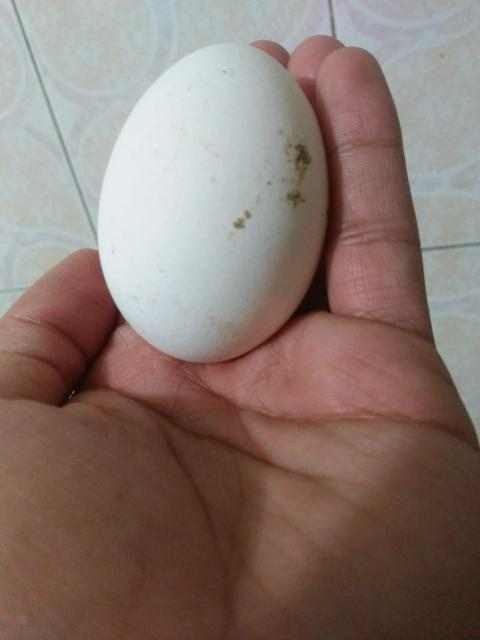Sano: (95, 41, 330, 361)
